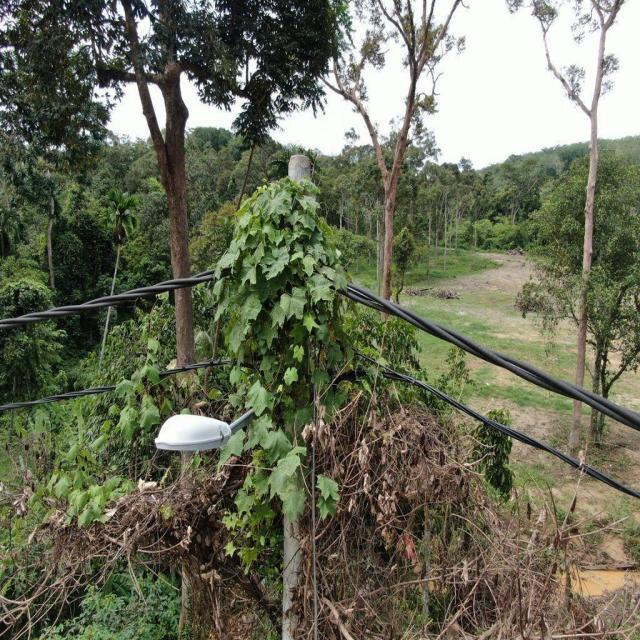critical vegetation: (204, 169, 364, 513)
